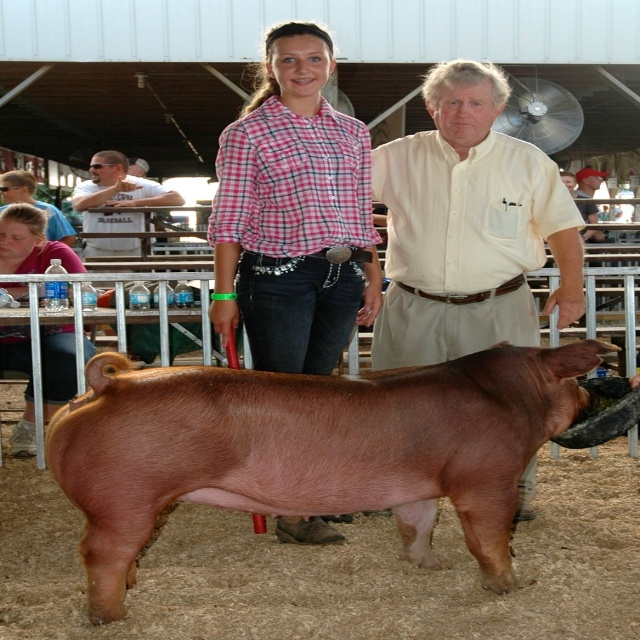Pig: (44, 340, 621, 625)
